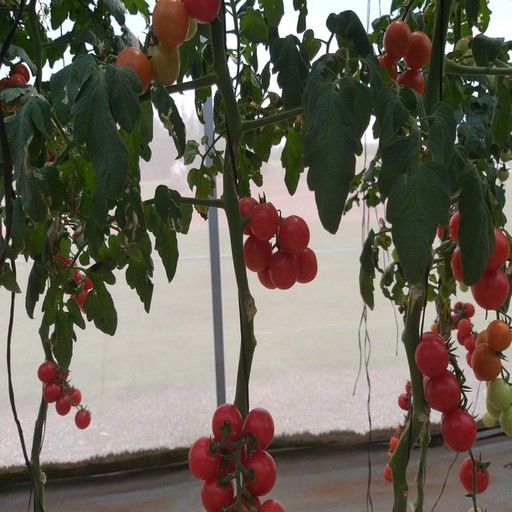mixed tomato bunch: (472, 319, 512, 442)
red tomato bunch: (415, 330, 490, 493), (187, 403, 285, 512), (115, 1, 221, 95), (434, 207, 509, 310), (239, 196, 317, 290), (1, 61, 68, 165), (368, 19, 433, 103), (384, 378, 419, 487), (39, 359, 92, 430), (53, 248, 98, 318), (448, 301, 484, 368)
